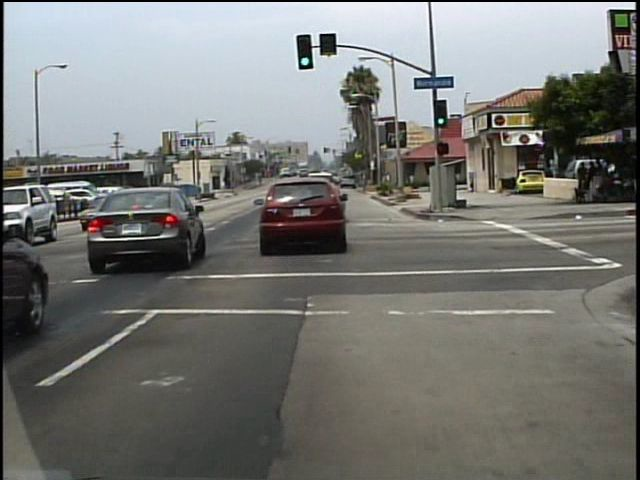person: (540, 160, 557, 198)
